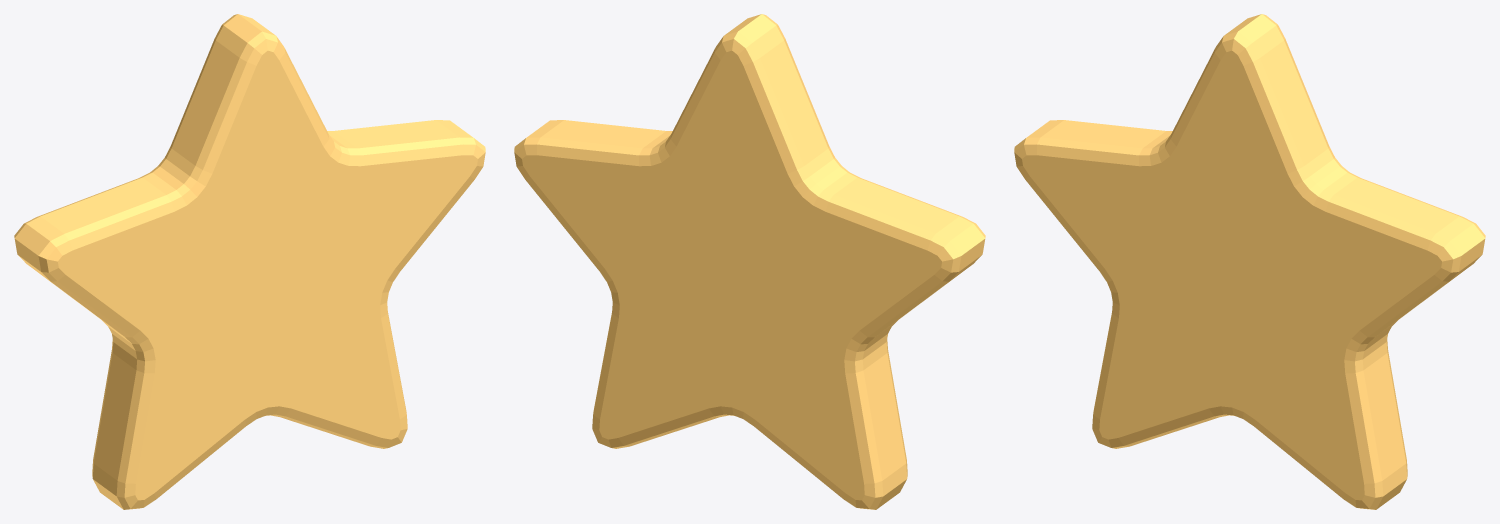
Rendered from star.glb.
3 renders of one model, left to right at view 1: azimuth 30°, elevation 25°; view 2: azimuth 150°, elevation 25°; view 3: azimuth 330°, elevation 25°, orthographic.
Visible parts, largest first — view 1: star_core; view 2: star_core; view 3: star_core.
Part boxes in pixels (x1,y1,x2,y2): star_core: [14, 14, 485, 509]; star_core: [514, 14, 985, 509]; star_core: [1014, 14, 1485, 509].
Bounding box in the file's own units: 0.0432 × 0.0413 × 0.006.
